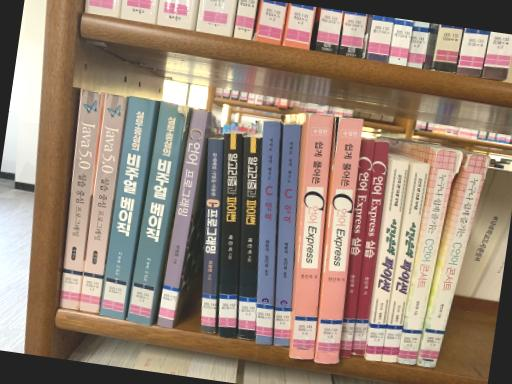book-spine: (417, 153, 489, 367), (126, 100, 189, 326), (397, 148, 459, 364), (100, 96, 155, 320), (316, 117, 363, 364), (157, 109, 208, 328), (79, 93, 126, 313), (291, 112, 333, 358), (383, 163, 430, 362), (59, 89, 101, 309), (368, 160, 409, 361), (352, 142, 388, 355), (340, 139, 374, 357), (274, 123, 301, 345), (256, 121, 281, 344), (218, 133, 242, 337), (238, 136, 260, 340), (201, 139, 222, 334)
